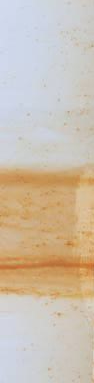Corrosion: (1, 163, 94, 299)
